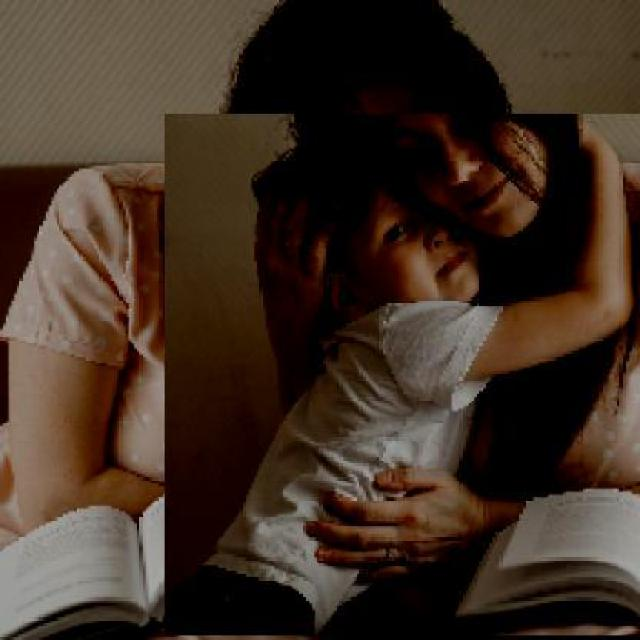child: (163, 114, 640, 637)
